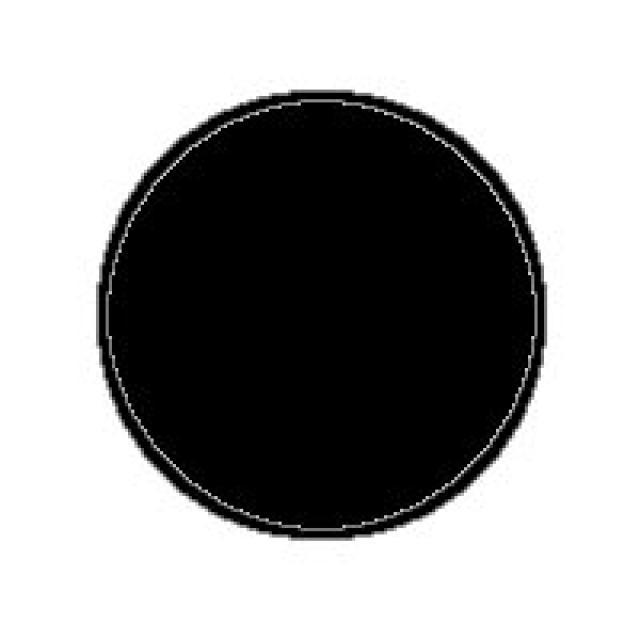Circle: (99, 91, 545, 536)
